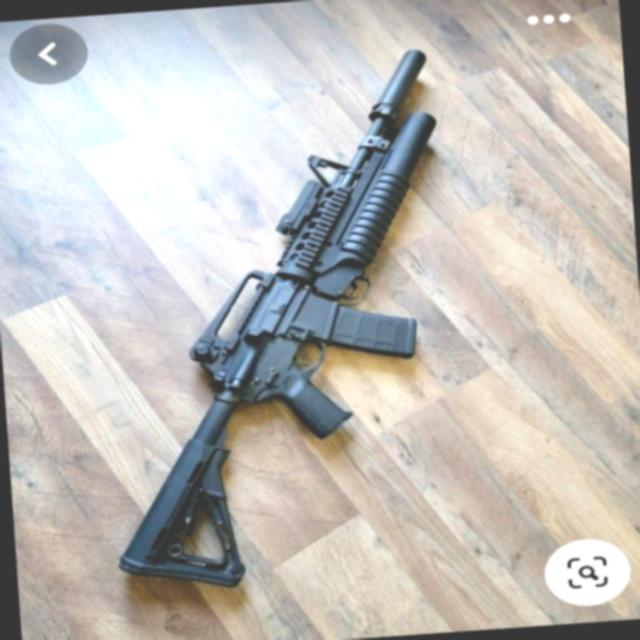m16: (78, 16, 520, 622), (112, 14, 503, 612)
